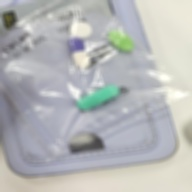러키펜정: (70, 21, 93, 40)
씨엠지세파클러캡슐: (70, 40, 91, 69)
에르도캡슐: (76, 85, 120, 112)
휴티렌정: (108, 30, 134, 53)
